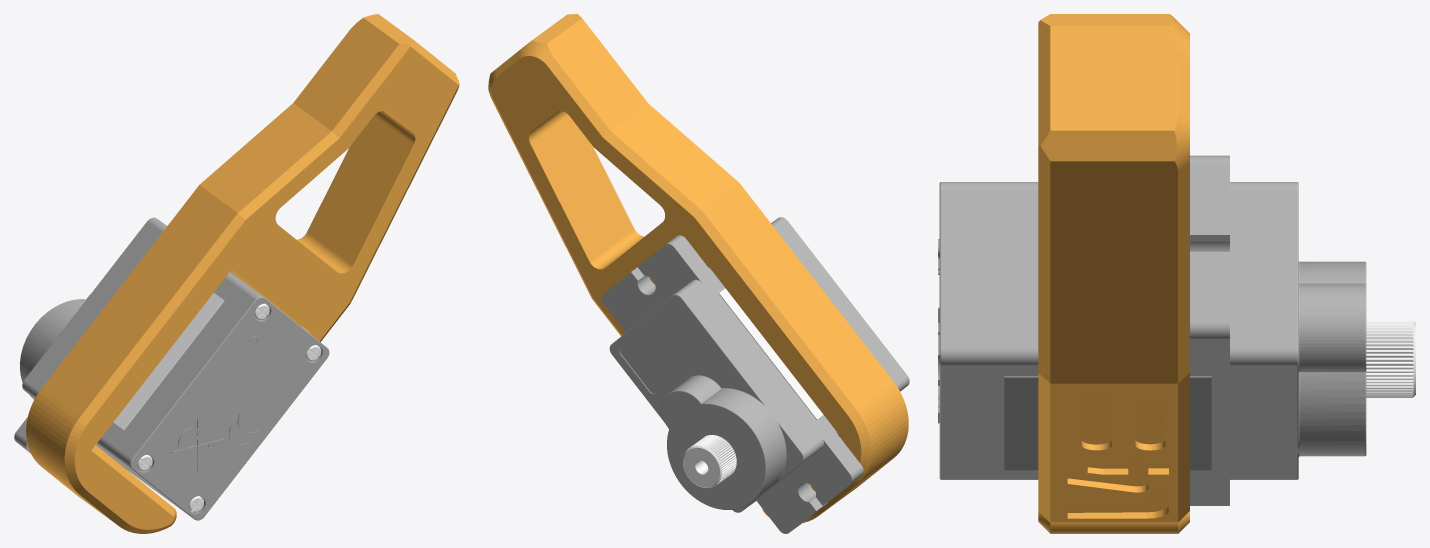
The model's file is left_rear_foot.glb.
3 renders of one model, left to right at view 1: azimuth 30°, elevation 25°; view 2: azimuth 150°, elevation 25°; view 3: azimuth 270°, elevation 25°, orthographic. The views are drawn at different scales.
Visible parts, largest first — view 1: foot_joint_l4, sg90_bottom_5, sg90_top_5, sg90_side_right_5, sg90_body_5; view 2: foot_joint_l4, sg90_top_5, sg90_bottom_5, sg90_pin_5, sg90_side_right_5; view 3: foot_joint_l4, sg90_top_5, sg90_bottom_5, sg90_side_left_5, sg90_pin_5, sg90_body_5.
Boxes of the visible parts, left/top/right/bottom form: foot_joint_l4: left=26, top=14, right=459, bottom=533; sg90_bottom_5: left=104, top=278, right=329, bottom=520; sg90_top_5: left=14, top=217, right=237, bottom=453; sg90_side_right_5: left=113, top=293, right=224, bottom=430; sg90_body_5: left=96, top=272, right=238, bottom=498; foot_joint_l4: left=488, top=14, right=908, bottom=522; sg90_top_5: left=602, top=235, right=863, bottom=533; sg90_bottom_5: left=771, top=217, right=909, bottom=391; sg90_pin_5: left=682, top=435, right=736, bottom=488; sg90_side_right_5: left=718, top=288, right=823, bottom=419; foot_joint_l4: left=1038, top=14, right=1189, bottom=533; sg90_top_5: left=1190, top=155, right=1366, bottom=505; sg90_bottom_5: left=938, top=182, right=1025, bottom=479; sg90_side_left_5: left=1004, top=376, right=1211, bottom=470; sg90_pin_5: left=1366, top=320, right=1415, bottom=397; sg90_body_5: left=1026, top=182, right=1038, bottom=479.
Bounding box in the file's own units: 0.329 × 0.343 × 0.2097.
